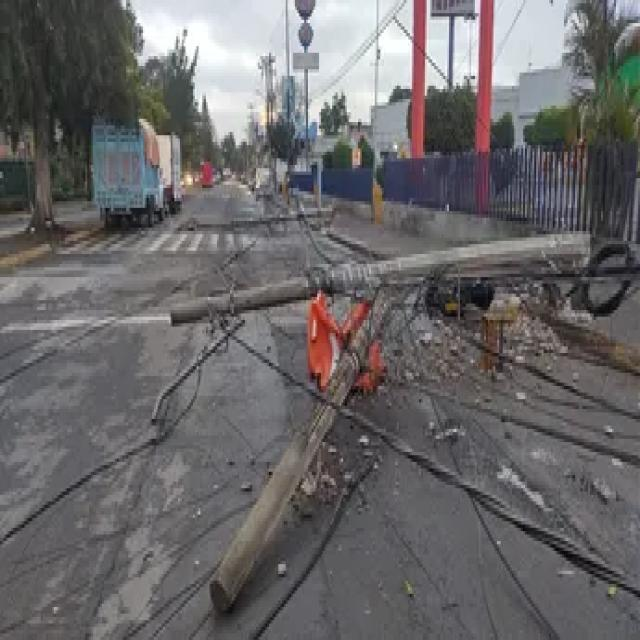Inclined Pole: (170, 229, 592, 614)
